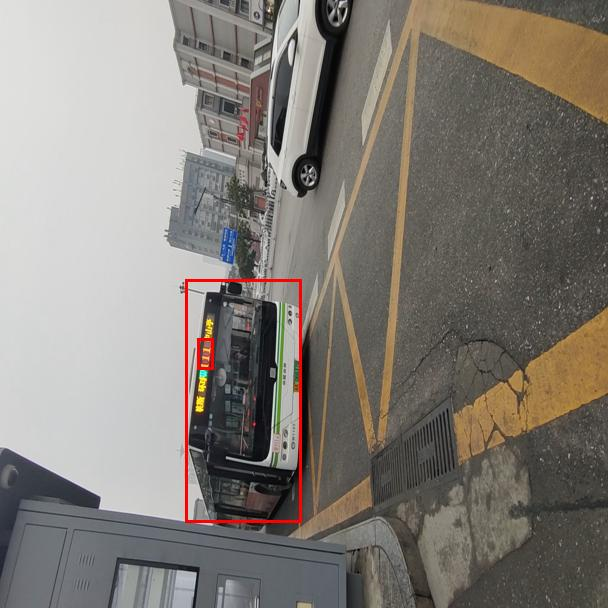bus: (185, 279, 301, 522)
screen: (197, 338, 213, 369)
